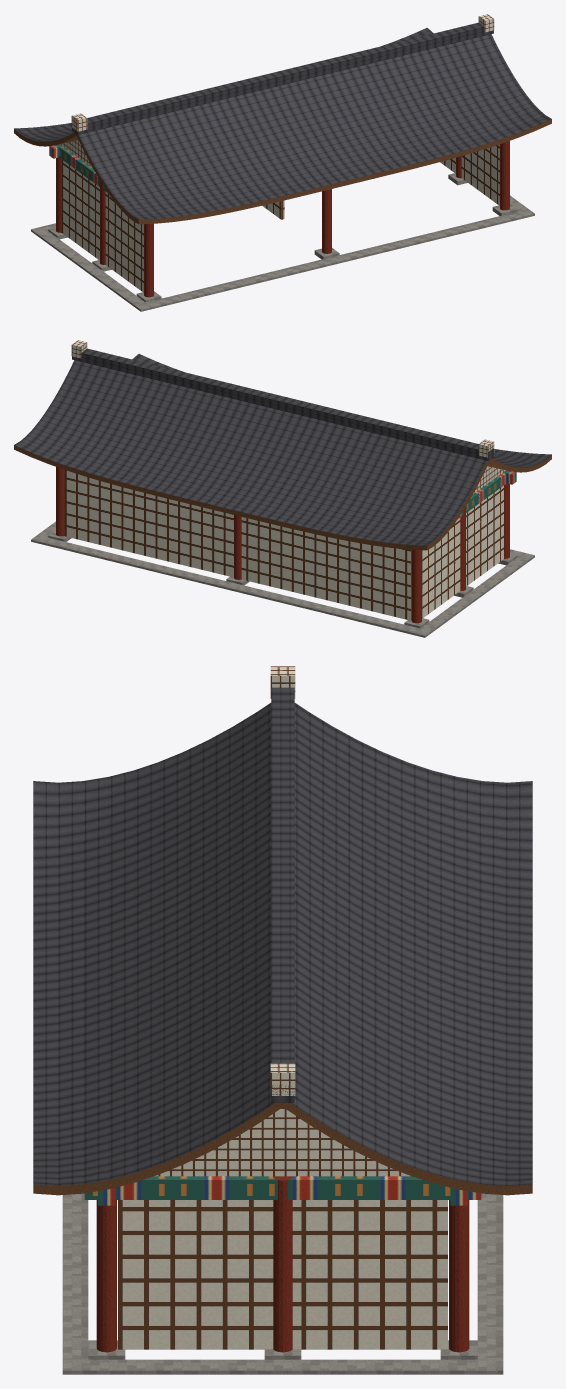
File: arq_casa.obj
3 renders of one model, top to bottom at view 1: azimuth 30°, elevation 25°; view 2: azimuth 150°, elevation 25°; view 3: azimuth 270°, elevation 25°, orthographic. The views are drawn at different scales.
Parts seen in each view (by area): view 1: arq_casa_teja, arq_casa_hanji, arq_casa_piedra, arq_casa_columna, arq_casa_madera, arq_casa_viga; view 2: arq_casa_teja, arq_casa_hanji, arq_casa_piedra, arq_casa_madera, arq_casa_columna, arq_casa_viga; view 3: arq_casa_teja, arq_casa_hanji, arq_casa_piedra, arq_casa_columna, arq_casa_viga, arq_casa_madera.
Part boxes in pixels (bbox=[...]): arq_casa_teja: bbox=[14, 22, 551, 219]; arq_casa_hanji: bbox=[60, 14, 499, 292]; arq_casa_piedra: bbox=[31, 173, 534, 311]; arq_casa_columna: bbox=[56, 141, 509, 297]; arq_casa_madera: bbox=[14, 119, 551, 224]; arq_casa_viga: bbox=[49, 144, 107, 192]; arq_casa_teja: bbox=[14, 348, 551, 545]; arq_casa_hanji: bbox=[64, 340, 505, 620]; arq_casa_piedra: bbox=[31, 521, 534, 637]; arq_casa_madera: bbox=[14, 445, 551, 550]; arq_casa_columna: bbox=[56, 467, 509, 623]; arq_casa_viga: bbox=[458, 470, 516, 518]; arq_casa_teja: bbox=[33, 687, 532, 1185]; arq_casa_hanji: bbox=[118, 666, 447, 1349]; arq_casa_piedra: bbox=[62, 1193, 503, 1374]; arq_casa_columna: bbox=[96, 1176, 469, 1352]; arq_casa_viga: bbox=[84, 1176, 481, 1205]; arq_casa_madera: bbox=[33, 1102, 532, 1195].
Bounding box in the file's own units: 13.1 × 4.7 × 6.8.
Materials: 6 (6 with a texture image).
